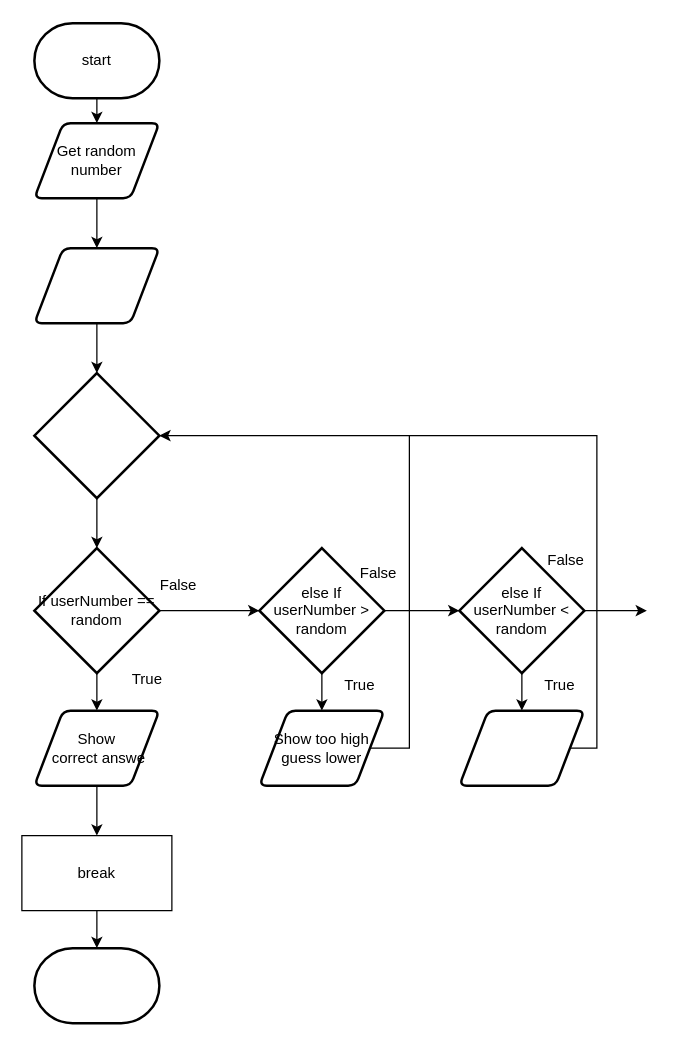
Some shapes in this 679 by 1045 pixel diagram are drawn without their labels. The shapes that lost their labels are listed below. From the top down, each one's centre as x and y in pixels, then its label:
the point at 96,285: Get counter
the point at 96,435: While true
the point at 521,747: Show too low guess higher
the point at 96,985: stop
